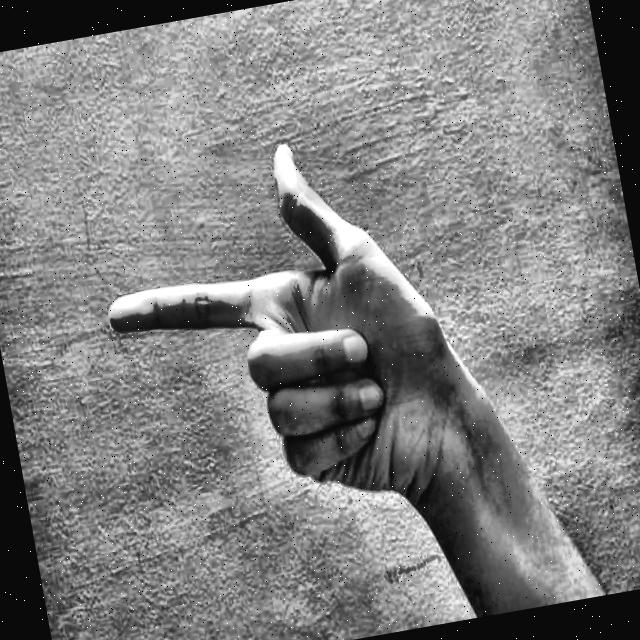Tho: (45, 63, 568, 593)
